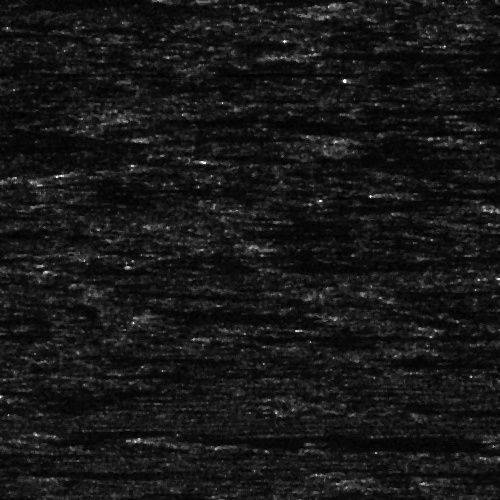object: (0, 459, 77, 486), (337, 184, 442, 201), (239, 48, 344, 59), (104, 432, 197, 441), (304, 466, 377, 475), (189, 333, 242, 338), (32, 431, 63, 434), (482, 10, 500, 15), (488, 429, 500, 436)
shadow: (0, 459, 210, 486), (151, 432, 440, 441), (292, 48, 500, 59), (390, 184, 500, 201), (340, 466, 500, 475), (216, 333, 500, 338), (47, 431, 118, 434)
